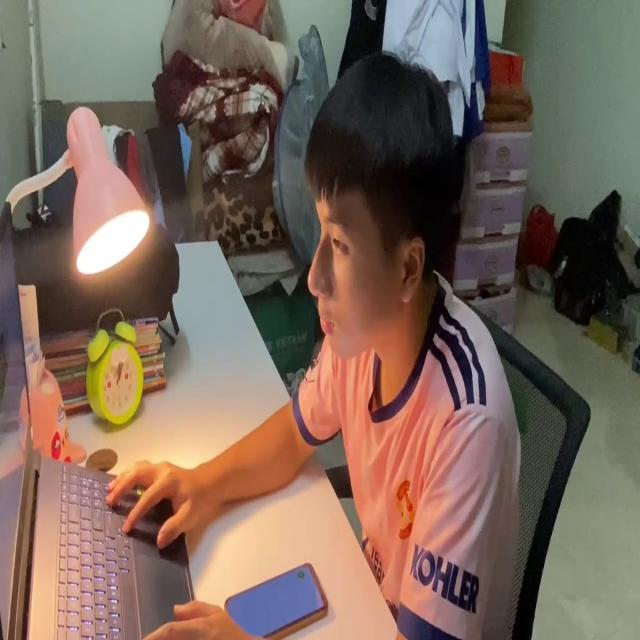laptop: (0, 195, 203, 640)
phone: (222, 553, 330, 640)
student: (104, 50, 526, 640)
